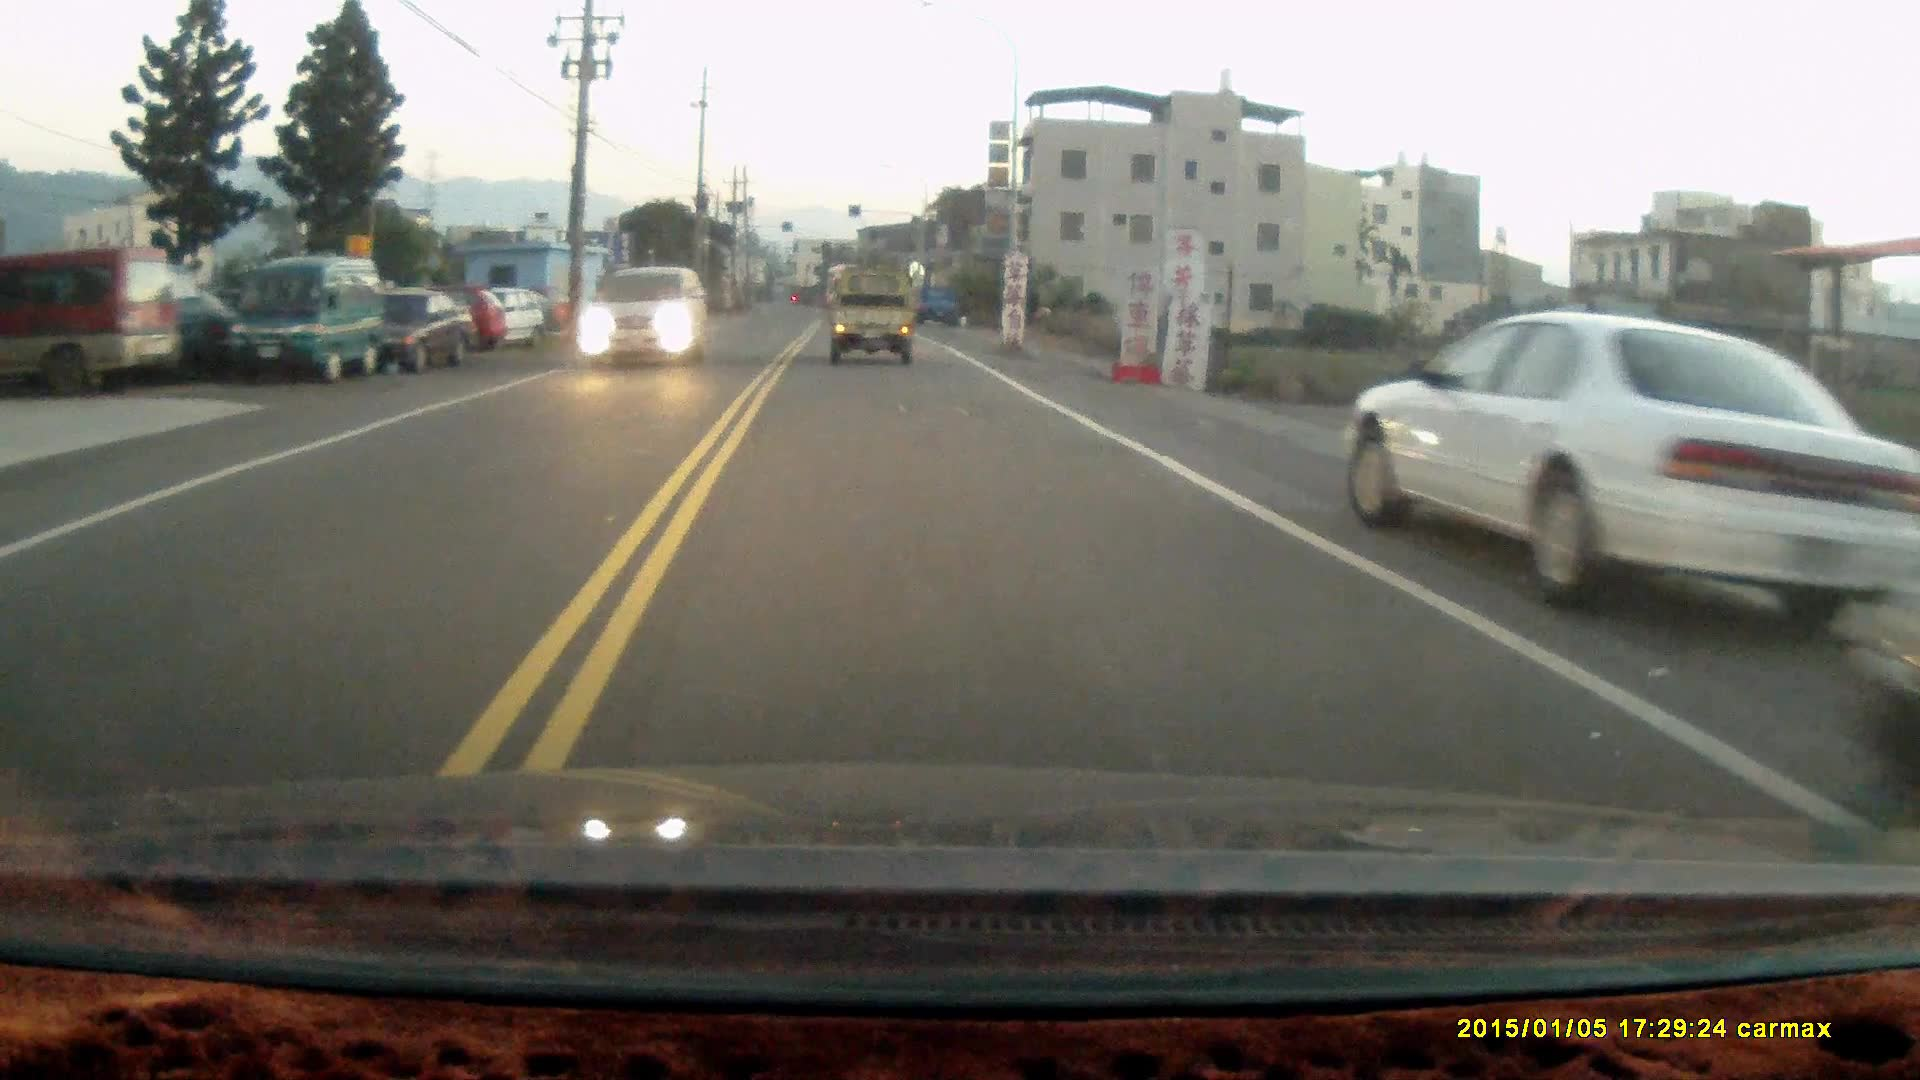vehicle: (1342, 309, 1920, 624), (1, 247, 181, 390), (229, 255, 386, 378), (1840, 576, 1919, 812), (576, 265, 707, 376), (829, 280, 919, 373), (386, 291, 480, 376), (472, 294, 542, 360)
